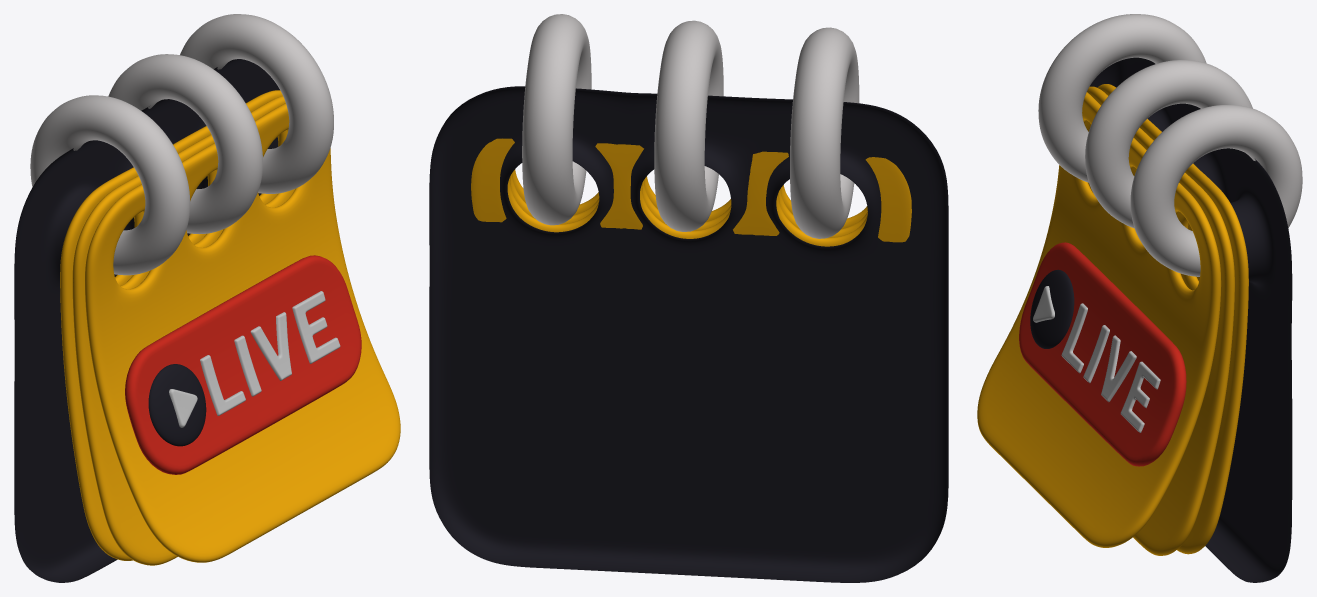
Rendered from scheduled-live-animated-3d-icon-233585274017.glb.
3 renders of one model, left to right at view 1: azimuth 30°, elevation 25°; view 2: azimuth 150°, elevation 25°; view 3: azimuth 270°, elevation 25°, orthographic. The views are drawn at different scales.
Parts seen in each view (by area): view 1: Page 1, Rings, Page 1.001, Base.001, Page 2, Page 3; view 2: Base.001, Rings, Page 3, Page 2, Page 1; view 3: Page 1, Rings, Base.001, Page 1.001, Page 2, Page 3.
Boxes of the visible parts, <box> form: Page 1: <box>85,103,400,562</box>; Rings: <box>30,14,333,275</box>; Page 1.001: <box>125,255,361,474</box>; Base.001: <box>14,59,279,582</box>; Page 2: <box>72,96,294,565</box>; Page 3: <box>60,90,287,560</box>; Base.001: <box>429,86,948,582</box>; Rings: <box>522,14,859,238</box>; Page 3: <box>471,138,911,246</box>; Page 2: <box>510,173,867,237</box>; Page 1: <box>512,169,867,229</box>; Page 1: <box>977,92,1221,547</box>; Rings: <box>1038,14,1302,276</box>; Base.001: <box>1090,57,1292,582</box>; Page 1.001: <box>1019,242,1186,466</box>; Page 2: <box>1084,86,1234,555</box>; Page 3: <box>1097,84,1248,554</box>.
Bounding box in the file's own units: 1.95 × 2.23 × 1.43.
